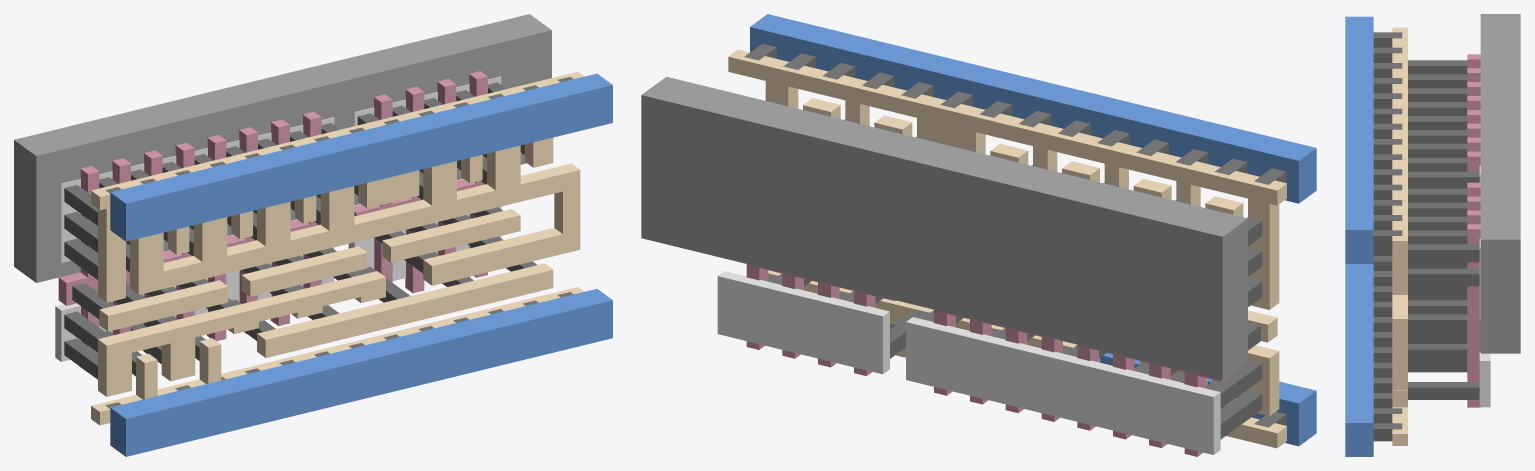
Rendered from sky130_fd_sc_hd__nand3_4.gds.gltf.
The picture shows the model from 3 angles, left to right: view 1: azimuth 30°, elevation 25°; view 2: azimuth 150°, elevation 25°; view 3: azimuth 270°, elevation 25°; orthographic projection. The views are drawn at different scales.
Visible parts, largest first — view 1: sky130_fd_sc_hd__nand3_4_li1, sky130_fd_sc_hd__nand3_4_met1, sky130_fd_sc_hd__nand3_4_nwell, sky130_fd_sc_hd__nand3_4_licon, sky130_fd_sc_hd__nand3_4_poly, sky130_fd_sc_hd__nand3_4_diff, sky130_fd_sc_hd__nand3_4_mcon; view 2: sky130_fd_sc_hd__nand3_4_nwell, sky130_fd_sc_hd__nand3_4_diff, sky130_fd_sc_hd__nand3_4_li1, sky130_fd_sc_hd__nand3_4_met1, sky130_fd_sc_hd__nand3_4_licon, sky130_fd_sc_hd__nand3_4_mcon, sky130_fd_sc_hd__nand3_4_poly; view 3: sky130_fd_sc_hd__nand3_4_licon, sky130_fd_sc_hd__nand3_4_nwell, sky130_fd_sc_hd__nand3_4_met1, sky130_fd_sc_hd__nand3_4_mcon, sky130_fd_sc_hd__nand3_4_li1, sky130_fd_sc_hd__nand3_4_poly, sky130_fd_sc_hd__nand3_4_diff.
Boxes of the visible parts, bbox=[...] form: sky130_fd_sc_hd__nand3_4_li1: bbox=[91, 71, 584, 425]; sky130_fd_sc_hd__nand3_4_met1: bbox=[110, 73, 612, 456]; sky130_fd_sc_hd__nand3_4_nwell: bbox=[14, 14, 551, 282]; sky130_fd_sc_hd__nand3_4_licon: bbox=[64, 82, 536, 379]; sky130_fd_sc_hd__nand3_4_poly: bbox=[58, 71, 487, 372]; sky130_fd_sc_hd__nand3_4_diff: bbox=[55, 76, 501, 361]; sky130_fd_sc_hd__nand3_4_mcon: bbox=[105, 76, 573, 408]; sky130_fd_sc_hd__nand3_4_nwell: bbox=[641, 76, 1247, 379]; sky130_fd_sc_hd__nand3_4_diff: bbox=[717, 271, 1220, 454]; sky130_fd_sc_hd__nand3_4_li1: bbox=[728, 49, 1286, 448]; sky130_fd_sc_hd__nand3_4_met1: bbox=[750, 14, 1316, 446]; sky130_fd_sc_hd__nand3_4_licon: bbox=[768, 101, 1262, 439]; sky130_fd_sc_hd__nand3_4_mcon: bbox=[744, 43, 1286, 427]; sky130_fd_sc_hd__nand3_4_poly: bbox=[746, 264, 1230, 456]; sky130_fd_sc_hd__nand3_4_licon: bbox=[1408, 60, 1479, 399]; sky130_fd_sc_hd__nand3_4_nwell: bbox=[1480, 14, 1520, 353]; sky130_fd_sc_hd__nand3_4_met1: bbox=[1345, 16, 1373, 456]; sky130_fd_sc_hd__nand3_4_mcon: bbox=[1373, 32, 1402, 441]; sky130_fd_sc_hd__nand3_4_li1: bbox=[1392, 27, 1407, 445]; sky130_fd_sc_hd__nand3_4_poly: bbox=[1467, 54, 1480, 407]; sky130_fd_sc_hd__nand3_4_diff: bbox=[1479, 165, 1490, 407].
Size of the model in its own units: 6.82 by 3.2 by 2.24.
